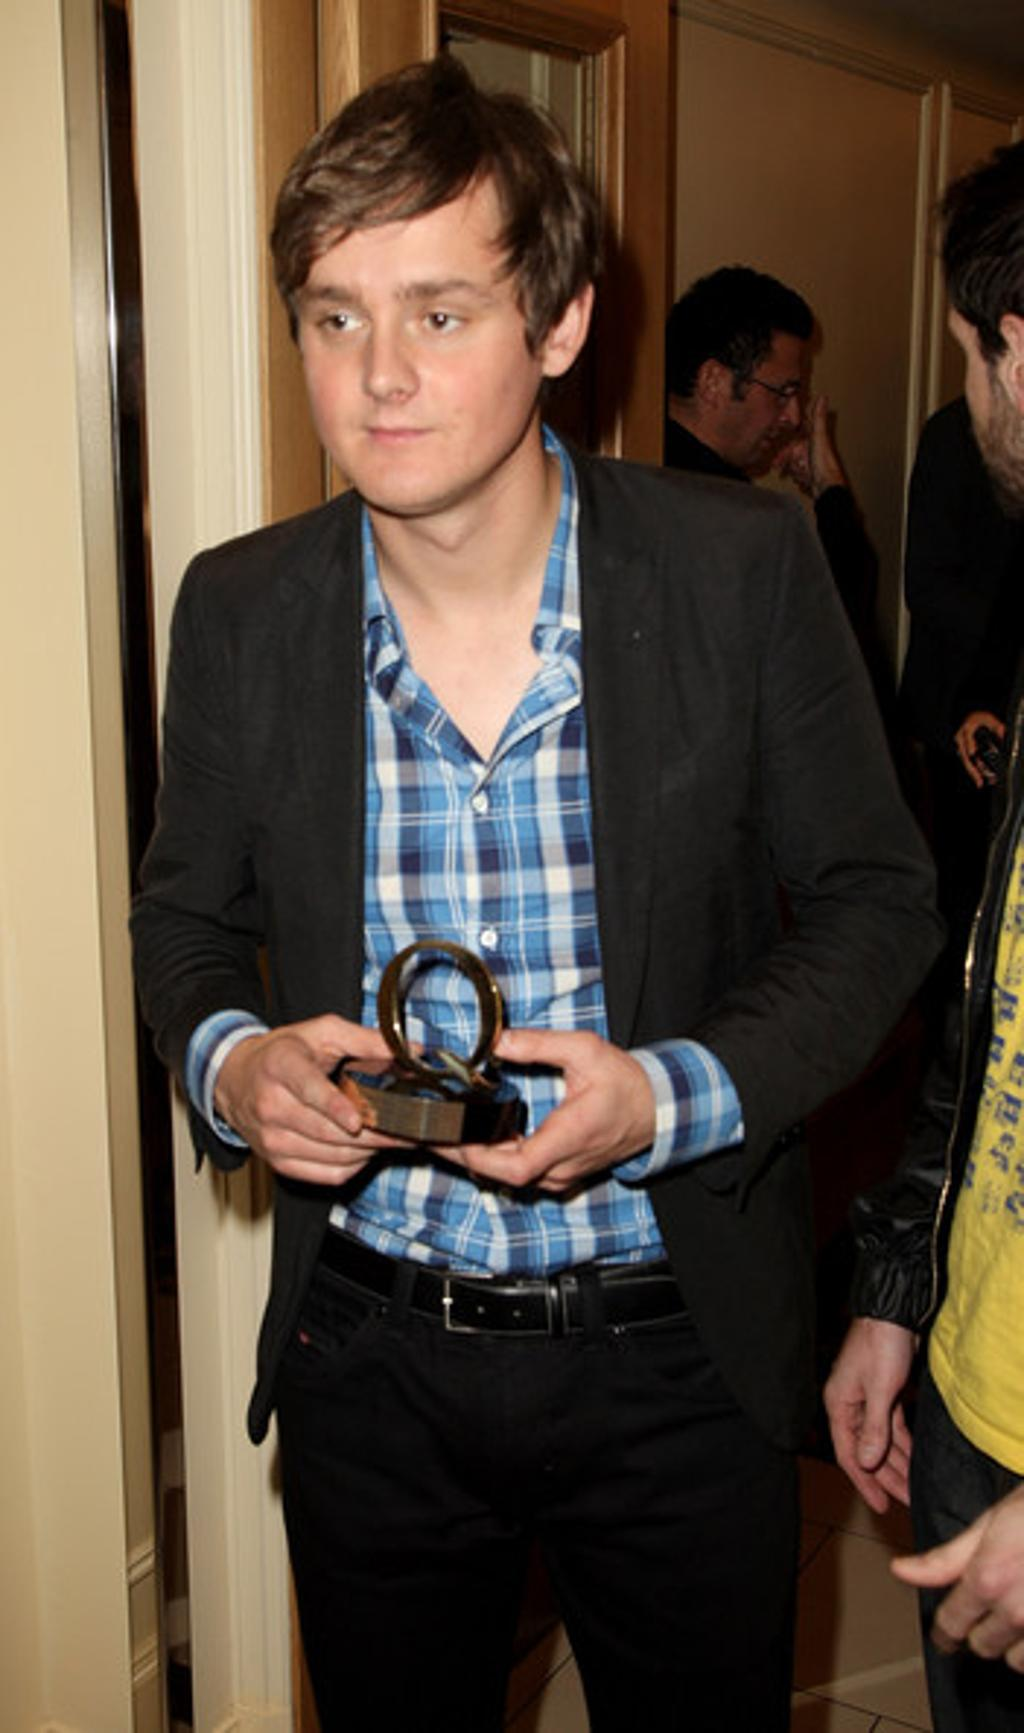face: (291, 162, 541, 513), (720, 294, 808, 470)
